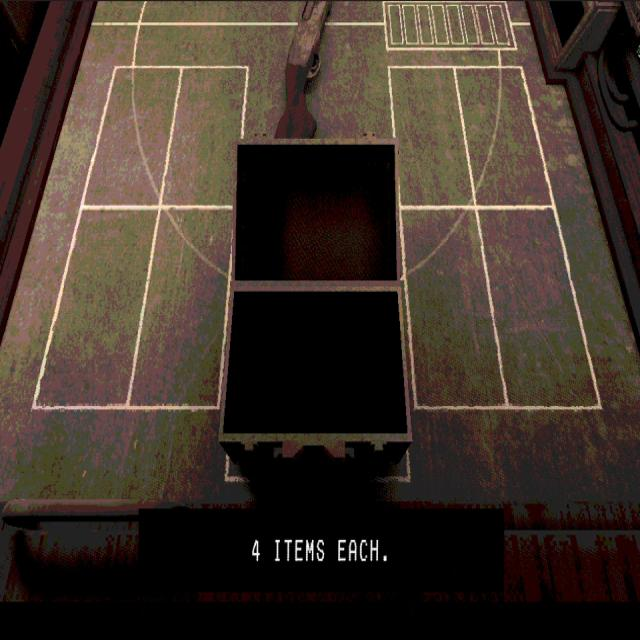emptyspace: (478, 205, 601, 411), (38, 209, 157, 405), (128, 205, 236, 409), (402, 207, 507, 407), (139, 211, 231, 405), (454, 67, 553, 204), (85, 67, 180, 205), (389, 66, 472, 204), (167, 69, 245, 205)
